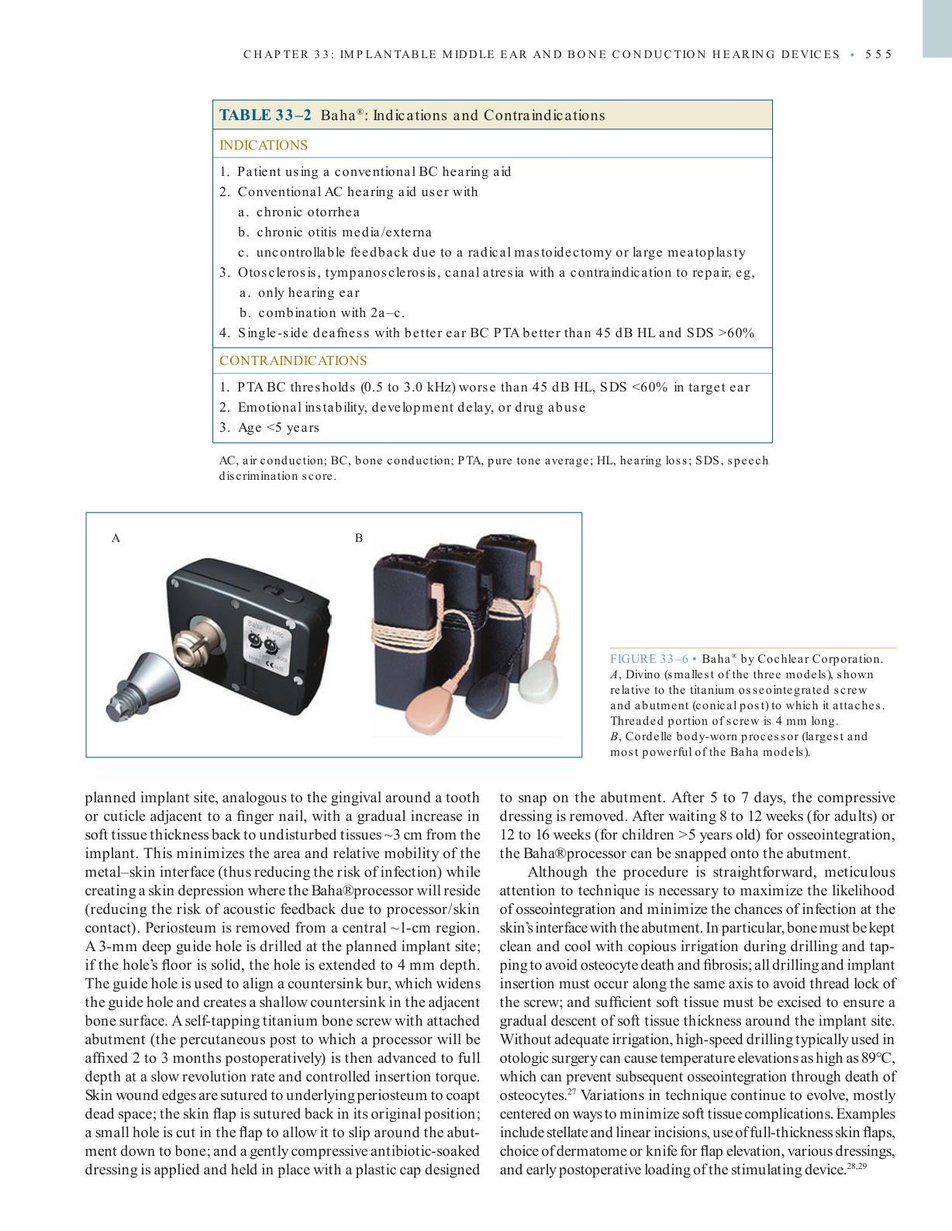caption: (608, 651, 885, 761), (320, 104, 606, 124), (108, 530, 123, 546), (353, 529, 365, 546)
header: (242, 48, 840, 60)
image: (102, 550, 336, 734), (369, 526, 566, 742)
table: (212, 127, 773, 488)
text: (497, 788, 897, 1180), (83, 789, 481, 1181)
